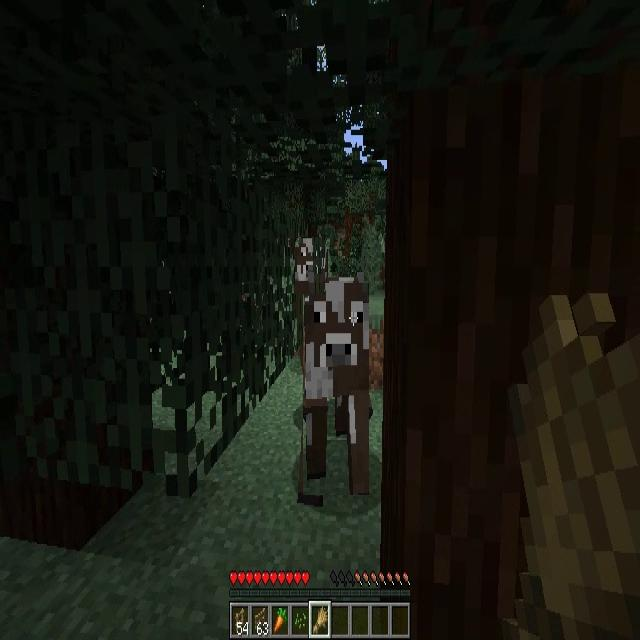cow: (304, 284, 369, 496), (295, 237, 325, 294)
